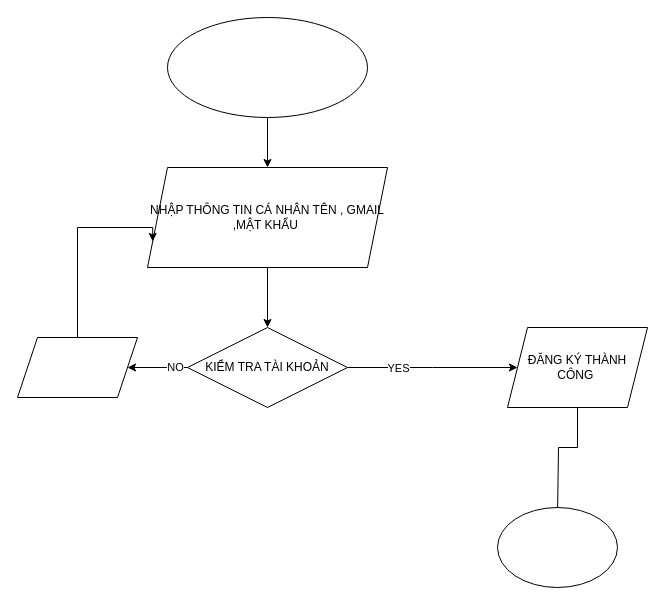
Image size: 665x605. Some labels were removed from this diagram. The box of each missing label's shape, as (x1, y1, x2, y2) in pixels:
BÃO LỖI: (16, 336, 138, 398)
START: (166, 16, 368, 118)
